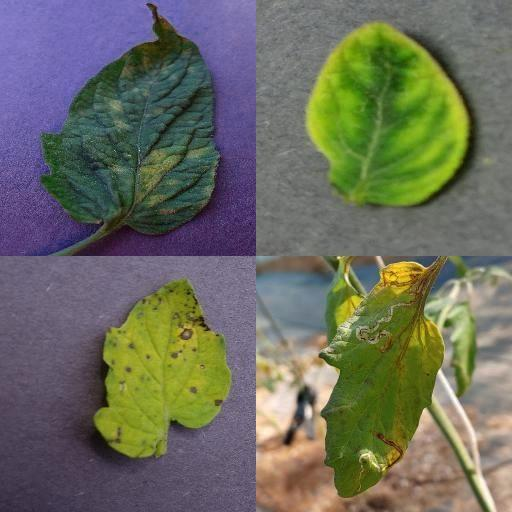Leaf Miner: (318, 257, 450, 499)
Leaf Mold: (39, 3, 222, 235)
Septoria: (93, 277, 234, 459)
Yellow Leaf Curl Virus: (305, 19, 468, 205)
